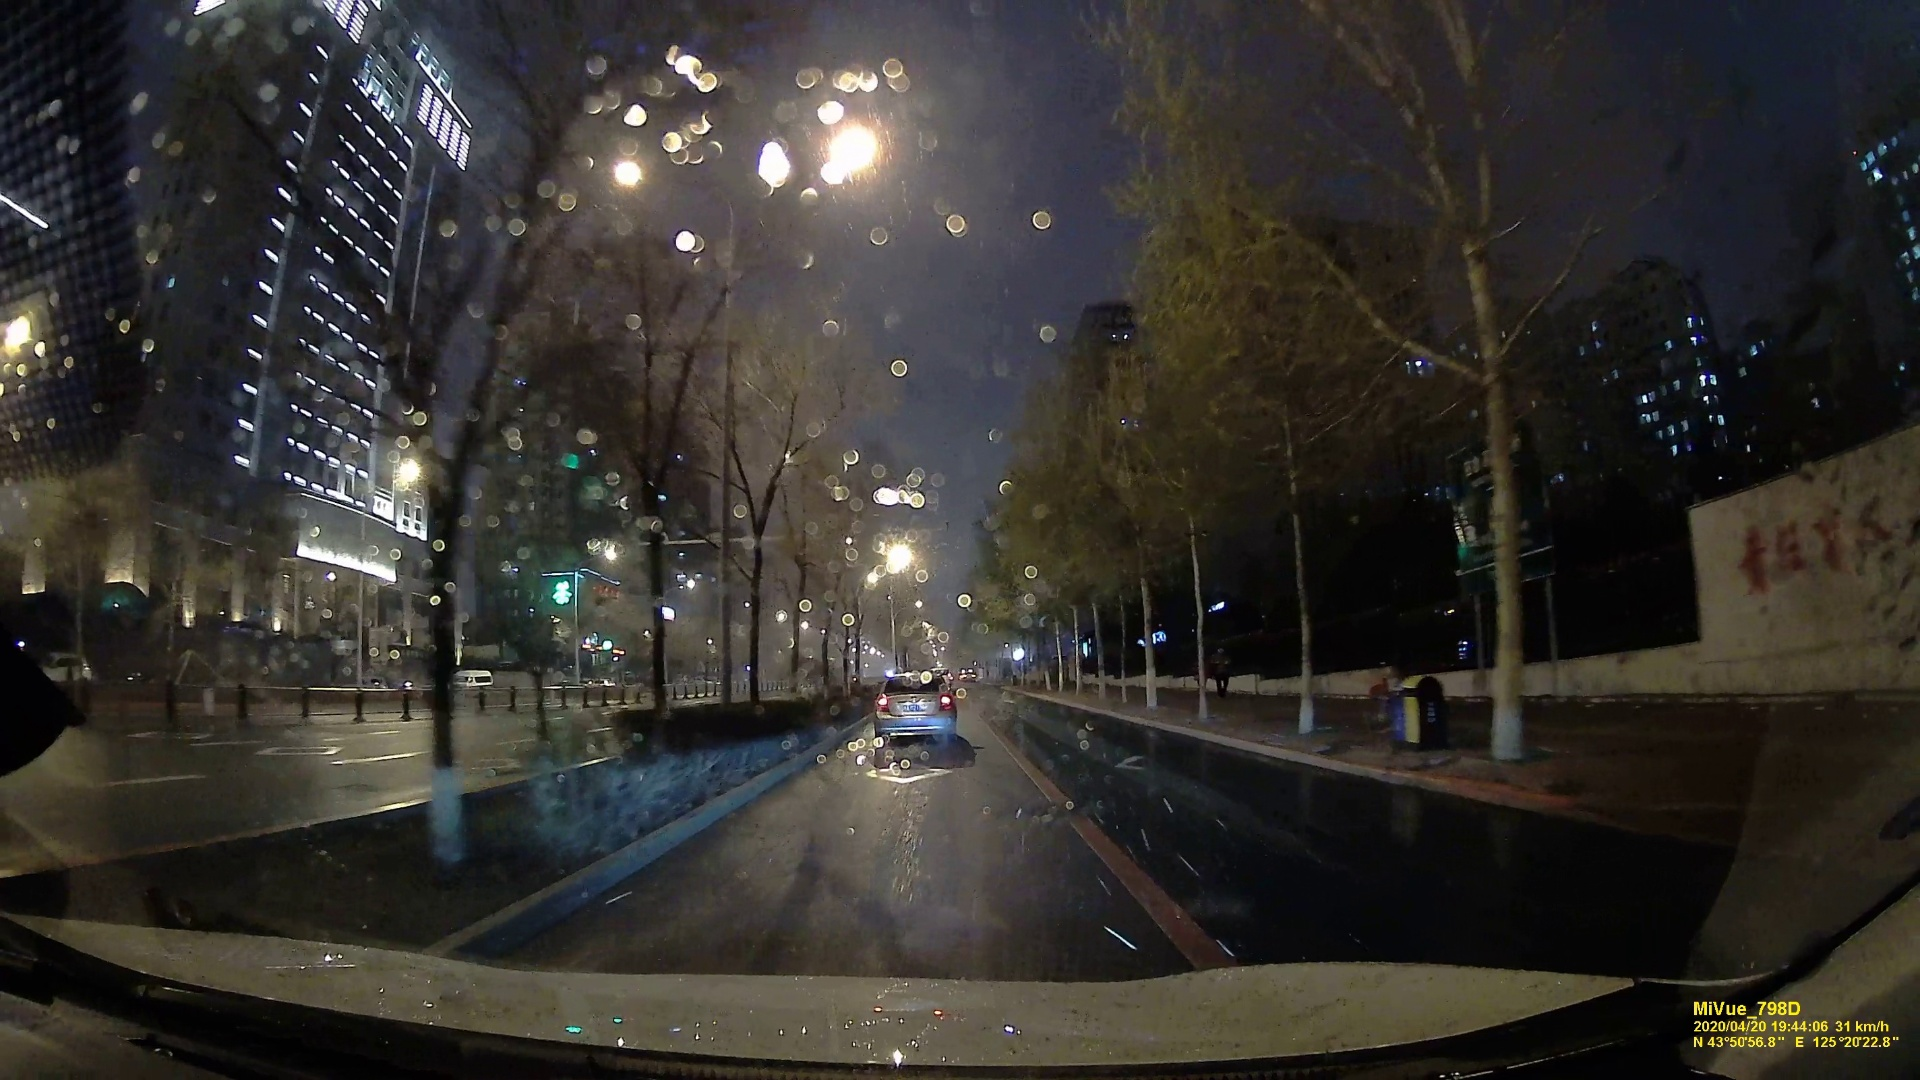vehicle: (873, 673, 957, 746)
